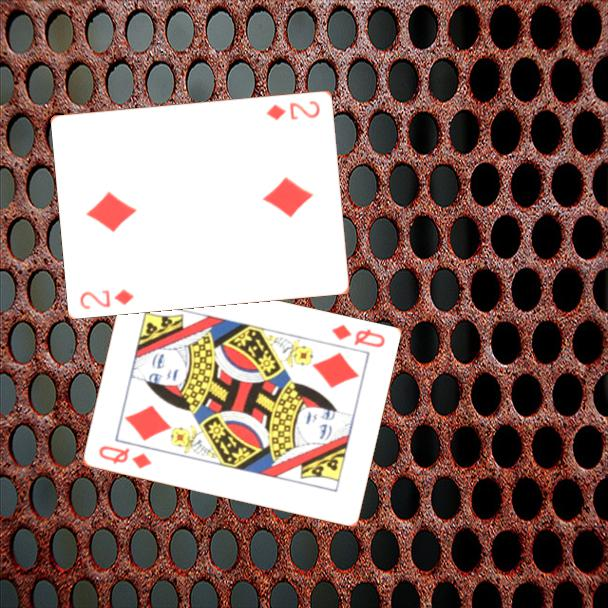d02: (77, 285, 137, 312), (263, 97, 323, 123)
d12: (95, 442, 154, 472), (328, 321, 387, 351)
